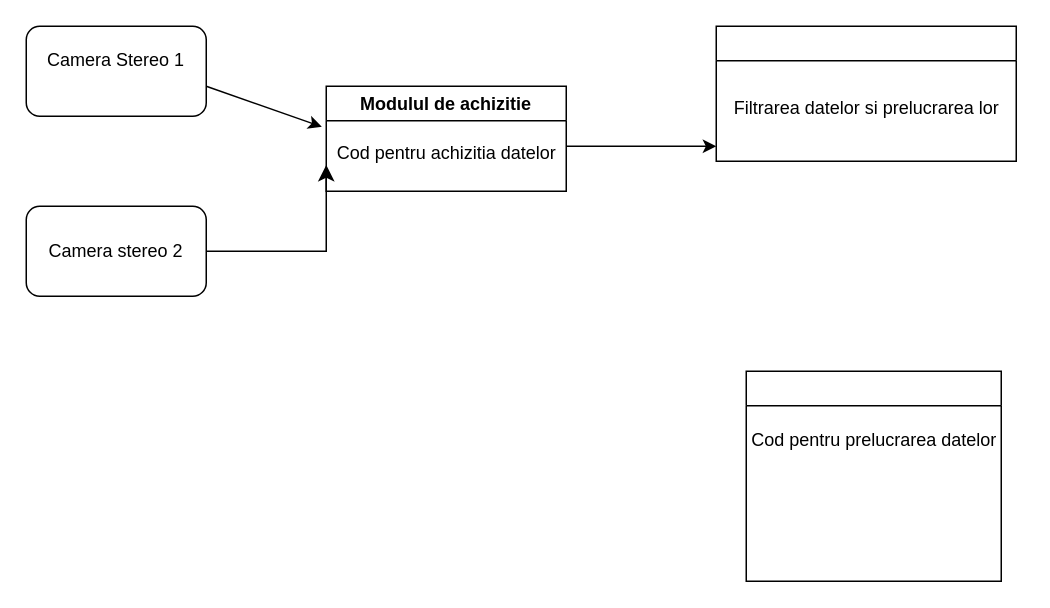
The diagram is 1050 pixels wide and 608 high, and some of its shapes have lost their labels. Here are the shapes that lost their labels. From the top down, the box of each, then its label:
(715, 25, 1016, 161): Modulul de preprelucrare
(745, 370, 1001, 581): Modul de prelucrare a datelor
